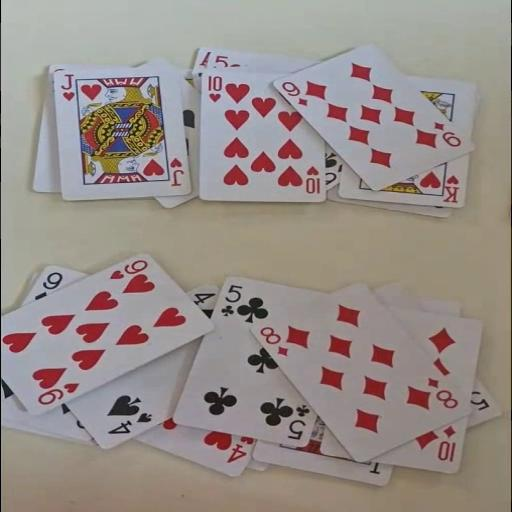10: (434, 424, 458, 462), (304, 164, 320, 194)
4: (105, 410, 154, 436), (223, 434, 254, 464)
5: (286, 403, 312, 440), (218, 282, 244, 317)
8: (425, 376, 460, 410), (257, 324, 290, 358)
9: (34, 380, 81, 406), (32, 270, 64, 301), (430, 119, 464, 148), (106, 258, 149, 280), (278, 79, 310, 107)
J: (166, 156, 185, 187), (58, 73, 76, 102)
K: (440, 172, 462, 204)
